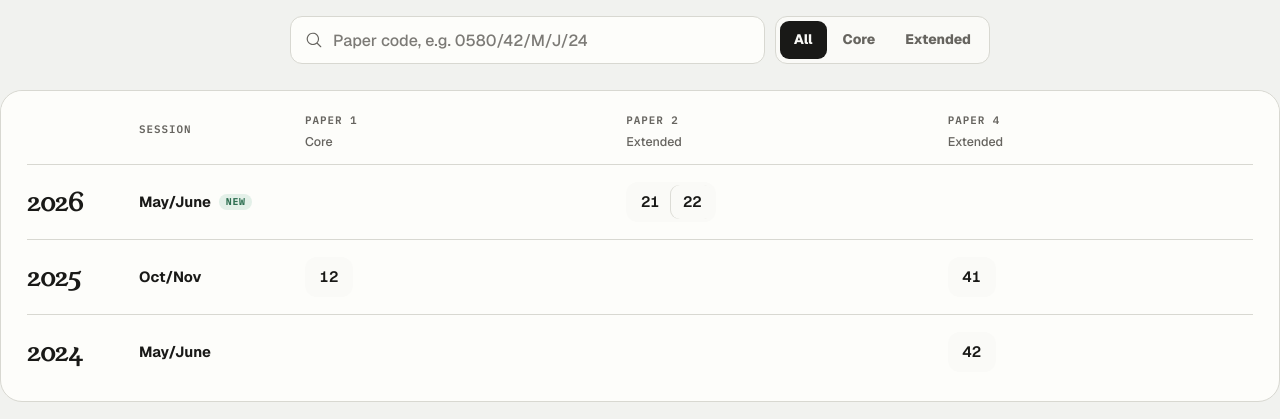
Scenario: PaperLibraryTools › removes the other tier's columns and papers instead of dimming them
Click the button "Core": (859, 40) [828, 21, 889, 59]
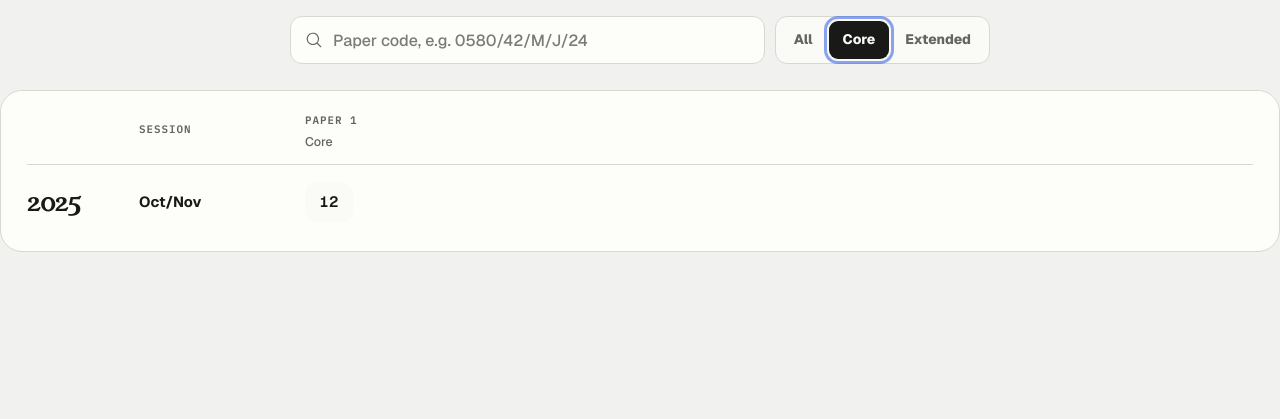
Expected: the link "12" is shown, [320, 192, 338, 211]
Result: the link "21" is gone
Result: the link "2026" is gone
Click the button "Extended": (938, 40) [891, 21, 985, 59]
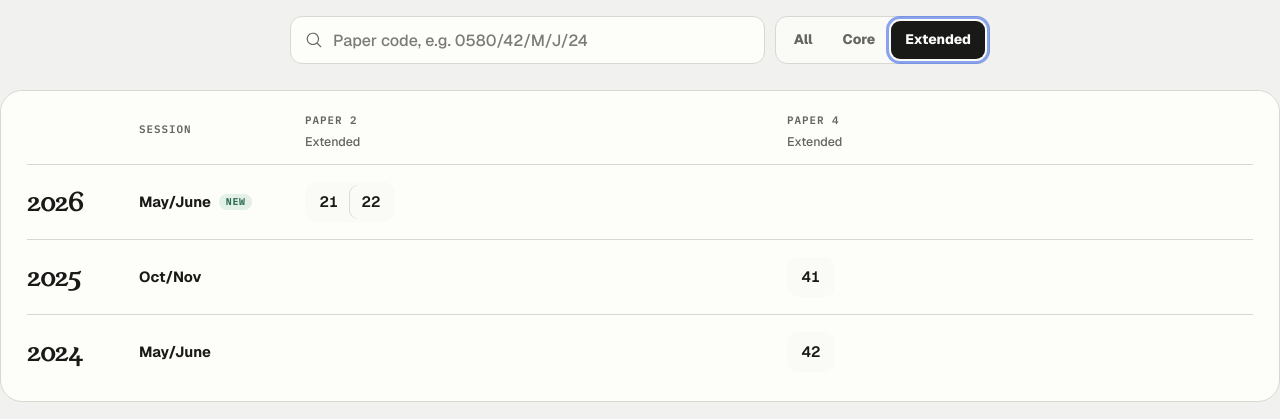
Result: the link "12" is gone
